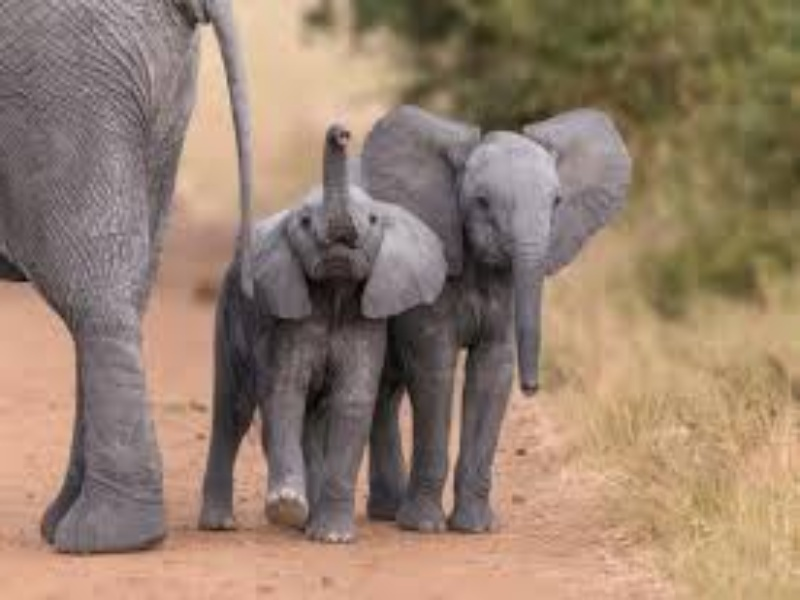elephant: (208, 90, 421, 549), (414, 83, 627, 542)
